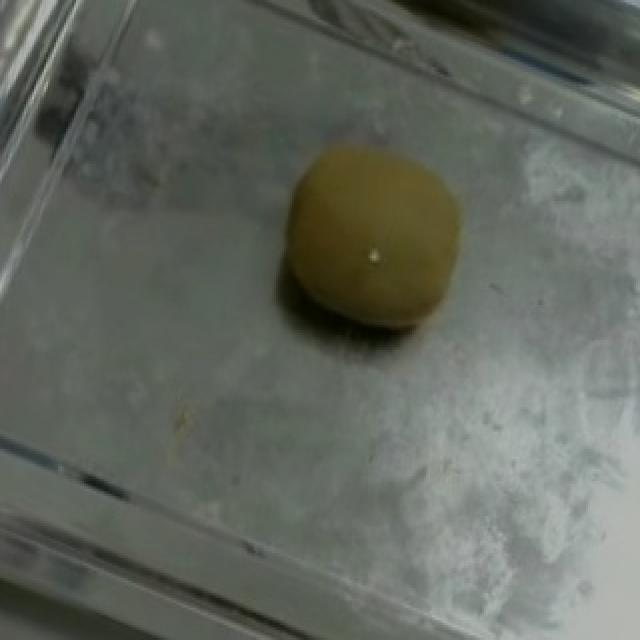Fruit: (238, 97, 508, 377)
